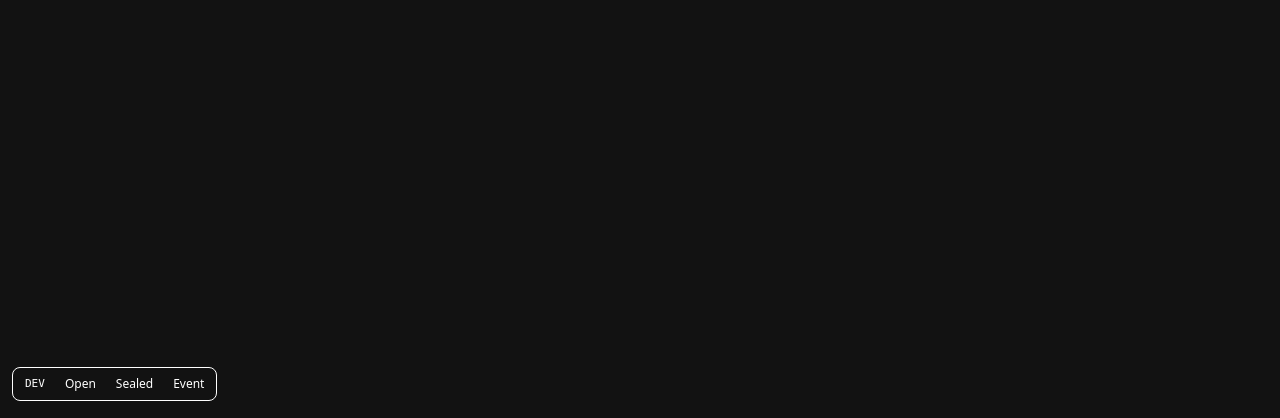
it: dev tools › shows the mini timer at its real size
The image size is (1280, 418).
Step 1. Click the button with aria-label "Show dev tools" → (35, 384), box x1=17 y1=372 x2=53 y2=396
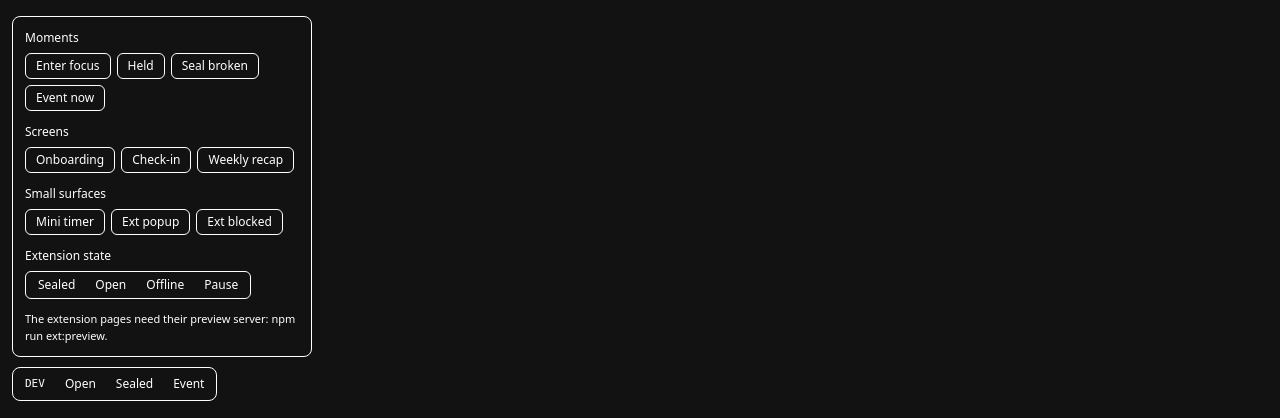
Step 2. Click the button "Mini timer" → (65, 222), box x1=25 y1=209 x2=105 y2=235
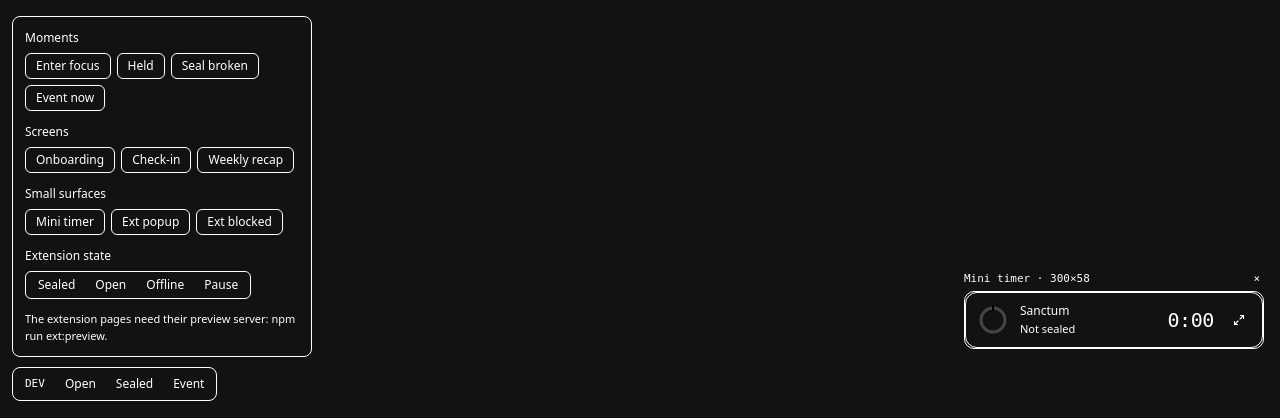
Now the text "Mini timer · 300×58" is shown, box x1=964 y1=270 x2=1090 y2=287
Step 3. Click the button named "Close Mini timer" → (1257, 279), box x1=1249 y1=270 x2=1264 y2=287
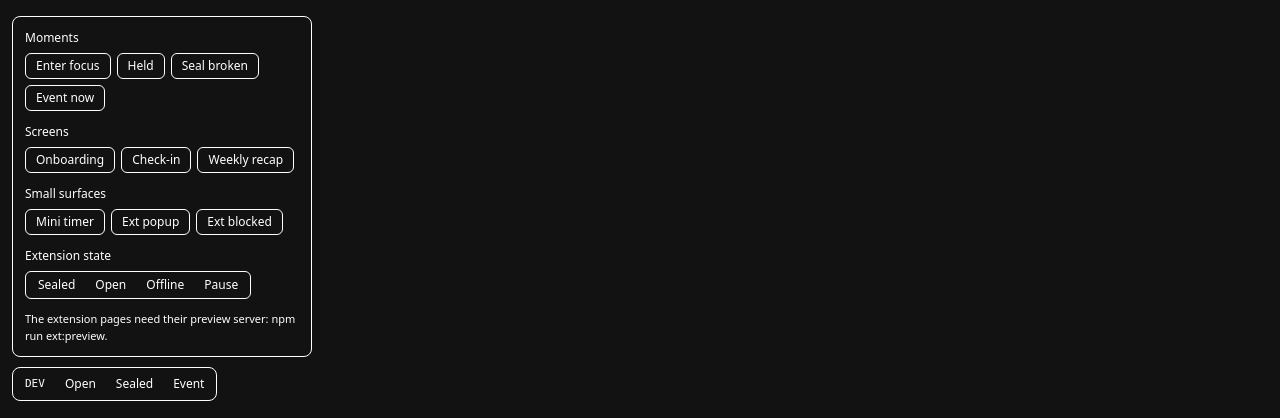
Now the text "Mini timer · 300×58" is gone
